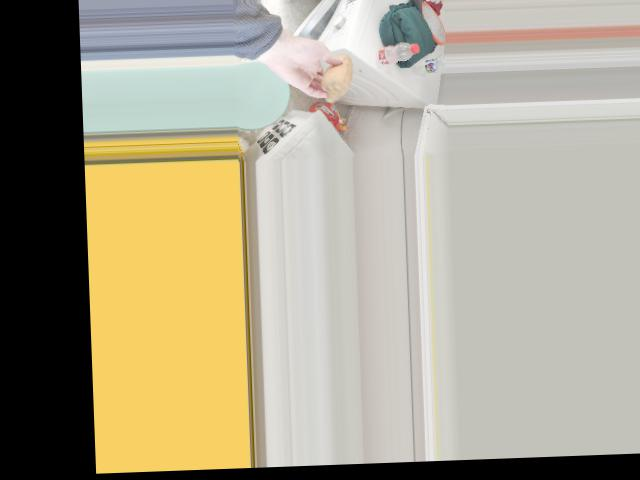sweet_potato: (315, 55, 353, 97)
